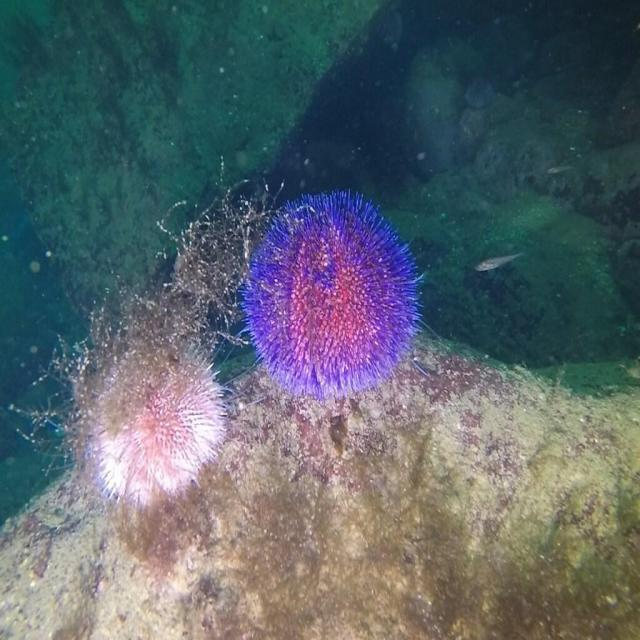Deniz Kestanesi: (34, 319, 264, 507), (235, 191, 440, 399)
